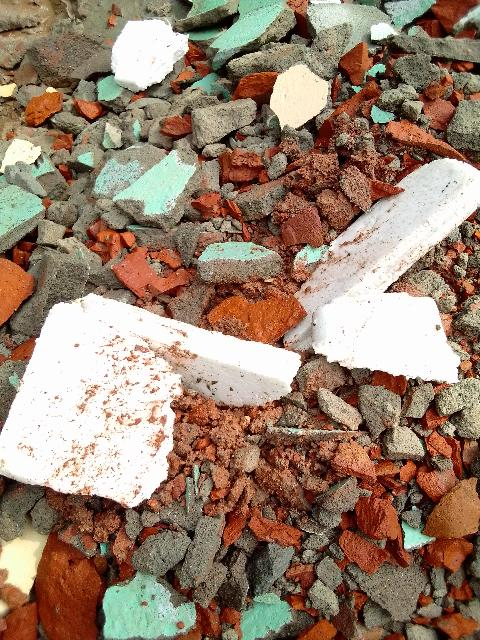cocksheet: (0, 265, 214, 503), (277, 156, 468, 403)
